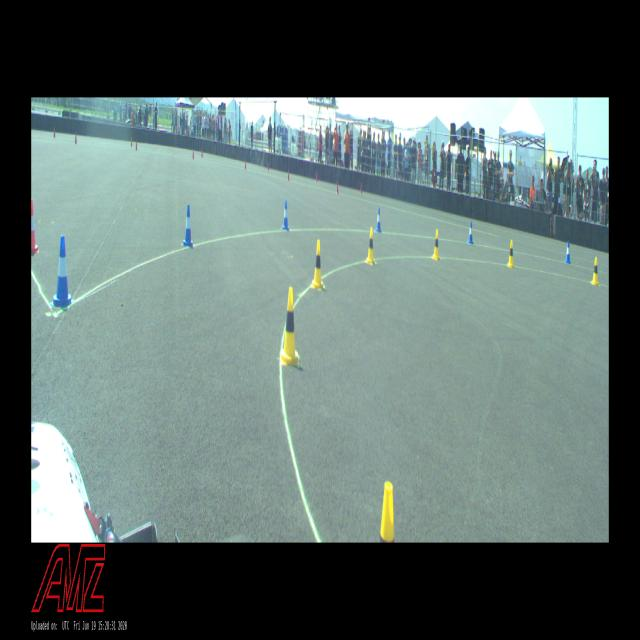blue_cone: (50, 235, 74, 307), (181, 205, 193, 246), (281, 200, 289, 231), (565, 240, 571, 264), (376, 208, 381, 232), (468, 221, 473, 244)
orange_cone: (31, 200, 39, 253)
yellow_cone: (280, 288, 299, 366), (380, 482, 394, 542), (311, 240, 325, 289), (366, 227, 375, 263), (432, 229, 440, 261), (591, 258, 599, 284), (507, 240, 514, 268)
